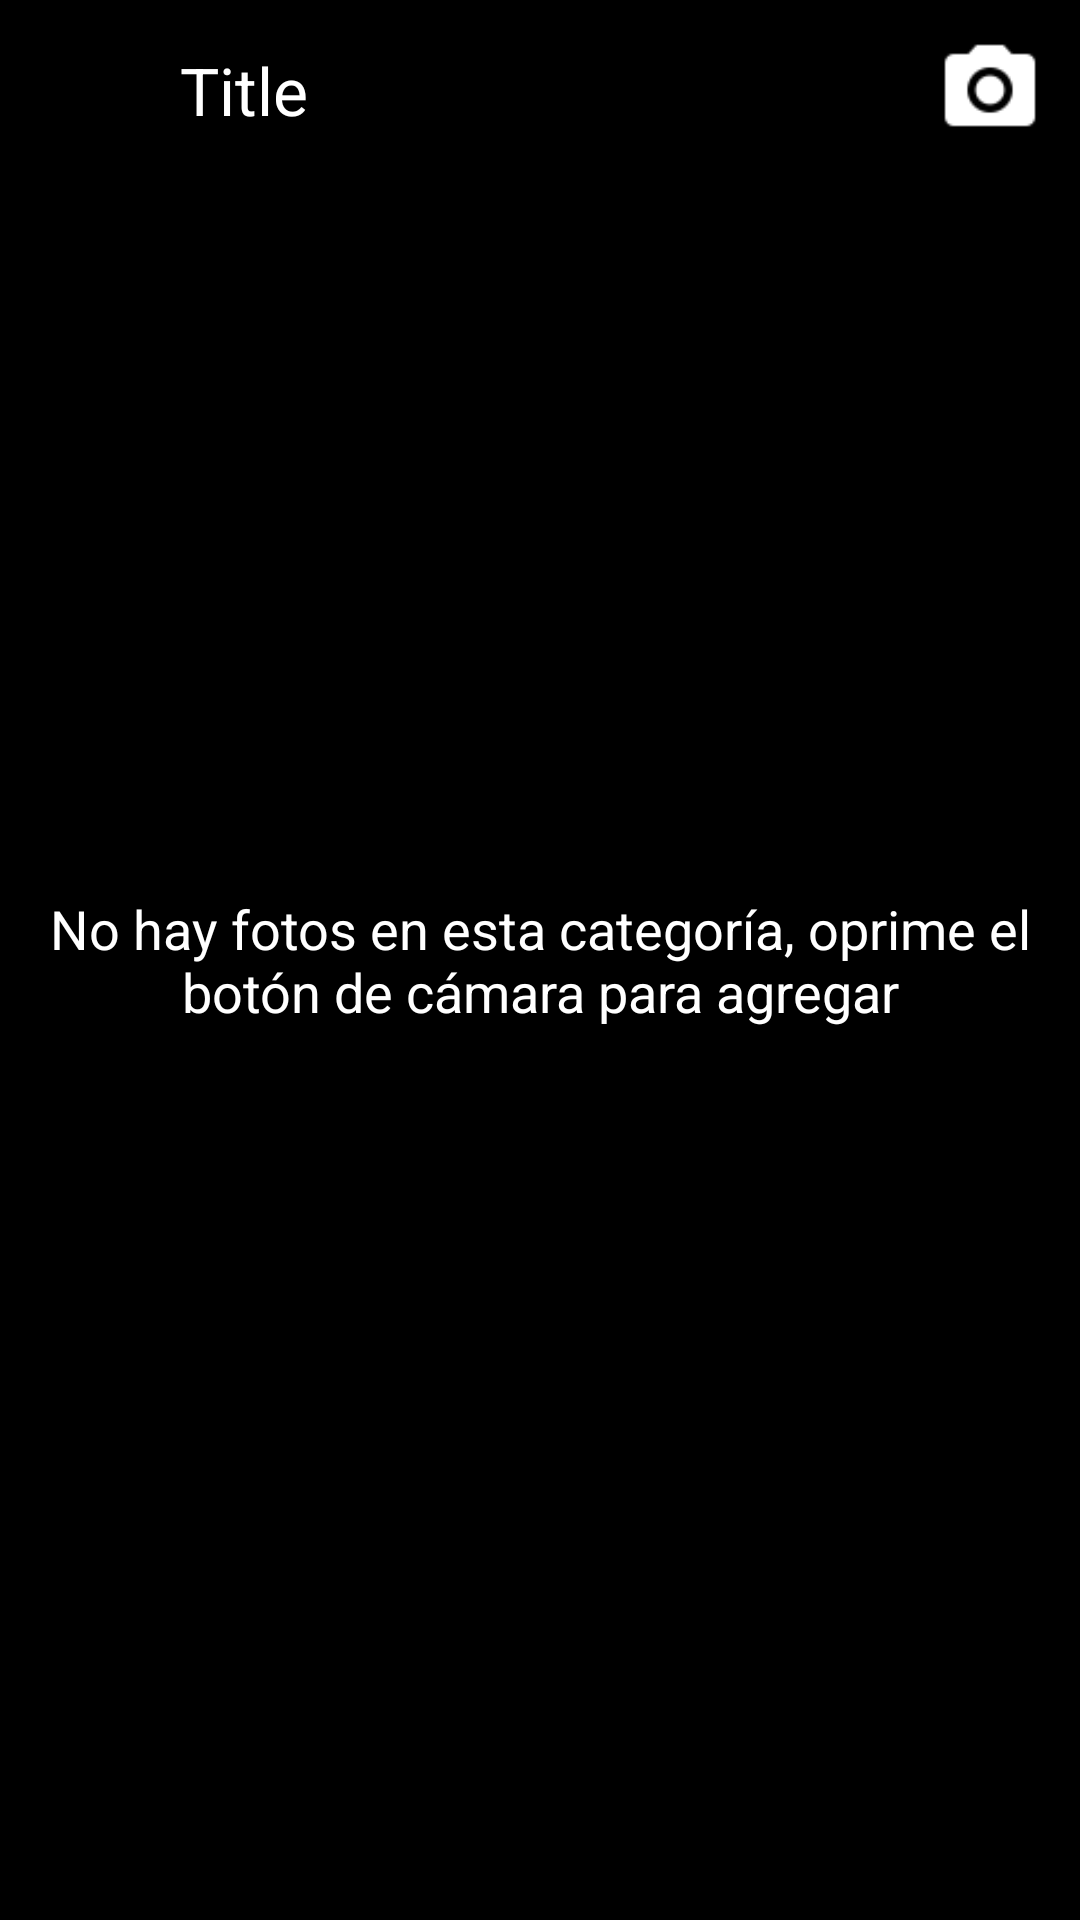

Icons on this 1080 × 1920 Android screen, each with the point to tap as (x=x, y=y):
camera: (x=990, y=85)
